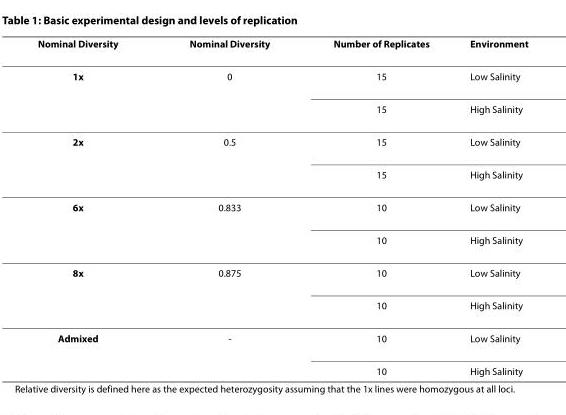table: (36, 36, 527, 376)
table column: (153, 36, 301, 376), (301, 36, 448, 376), (36, 36, 153, 376), (448, 36, 527, 376)
table column header: (36, 36, 527, 59)
table row: (36, 59, 527, 92), (36, 124, 527, 157), (36, 157, 527, 190), (36, 190, 527, 223), (36, 255, 527, 288), (36, 288, 527, 321), (36, 321, 527, 354), (36, 92, 527, 124), (36, 223, 527, 255), (36, 36, 527, 59), (36, 354, 527, 376)
table spanning cell: (36, 124, 153, 190), (36, 255, 153, 321), (36, 59, 153, 124), (36, 190, 153, 255), (36, 321, 153, 376)
